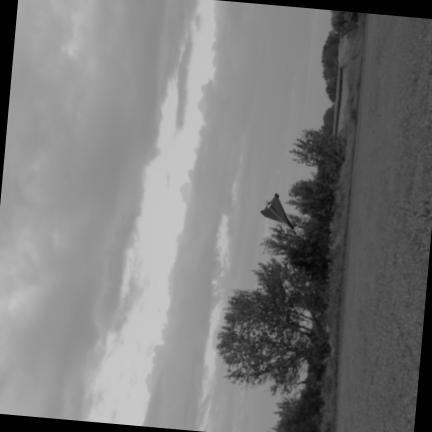Shahed: (260, 193, 293, 229)
